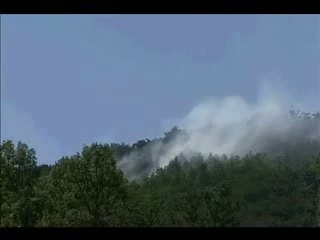smoke: (188, 75, 319, 165), (115, 116, 187, 181)
